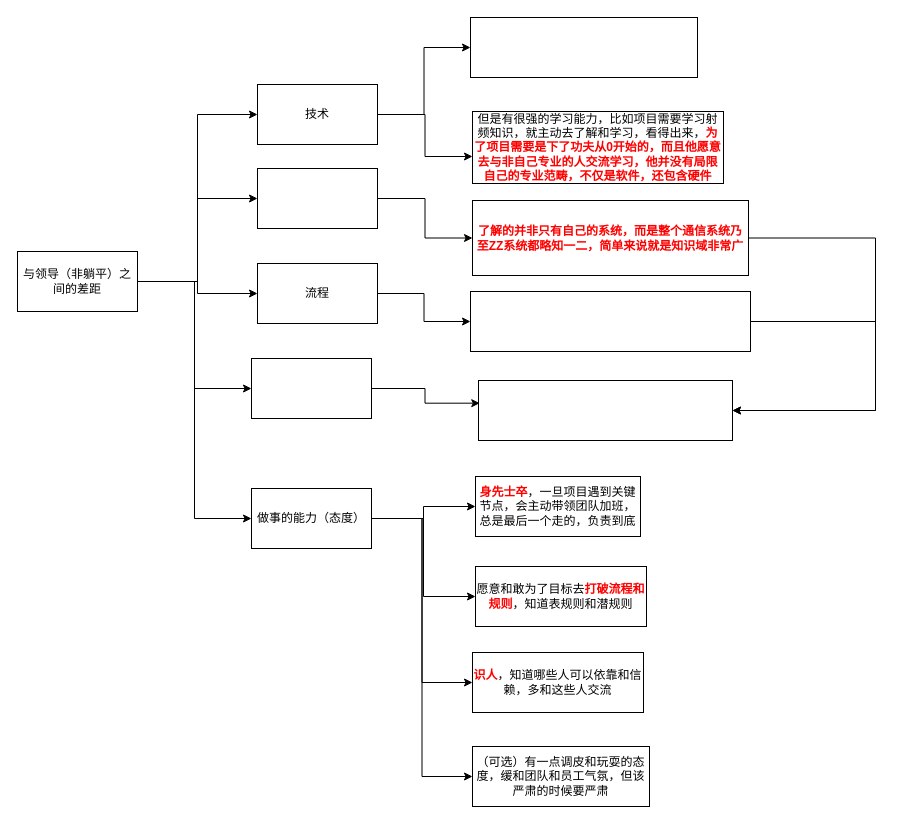
Some shapes in this 901 by 824 pixel diagram are drawn without their labels. The centre of each missing label's shape, as x and y in pixels:
业务: (x=317, y=198)
了解技术和业务，乃至流程背后的人力资源。 知道一旦出了技术、业务、流程的问题该找谁: (x=605, y=410)
人脉（资源）: (x=311, y=388)
单论本专业的技术深度并非不可比，从几次对话中可以看出对编码，算法，数据结构以及知识广度等部分并非有很深的见解: (x=584, y=47)
对质量流程很了解，知道项目交付的关键节点所需要的流程和手续: (x=610, y=321)
